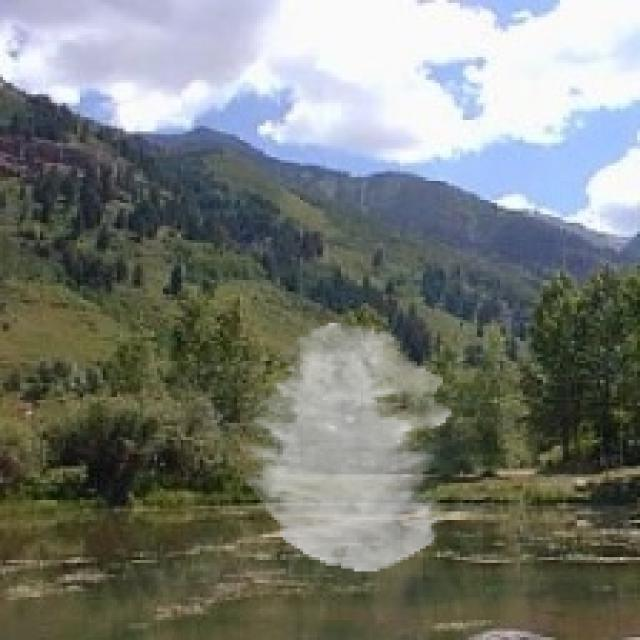Smoke: (243, 323, 451, 571)
